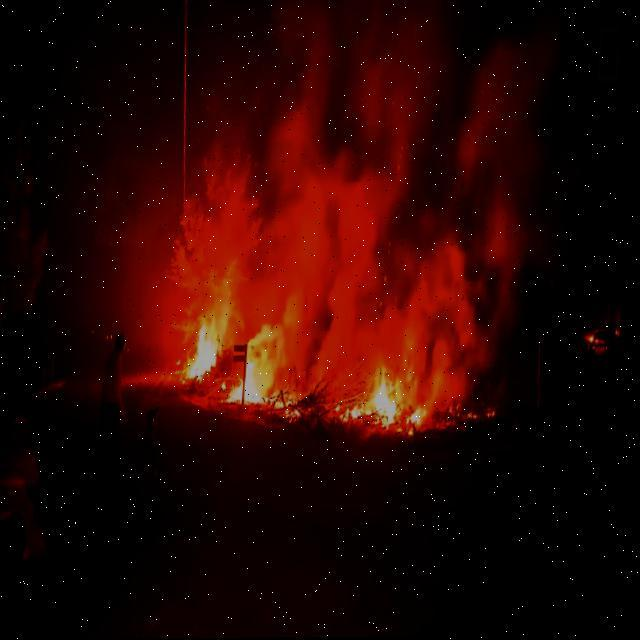Fire: (340, 348, 433, 439), (237, 311, 310, 424), (187, 291, 235, 385), (452, 403, 502, 420), (592, 332, 604, 348)
